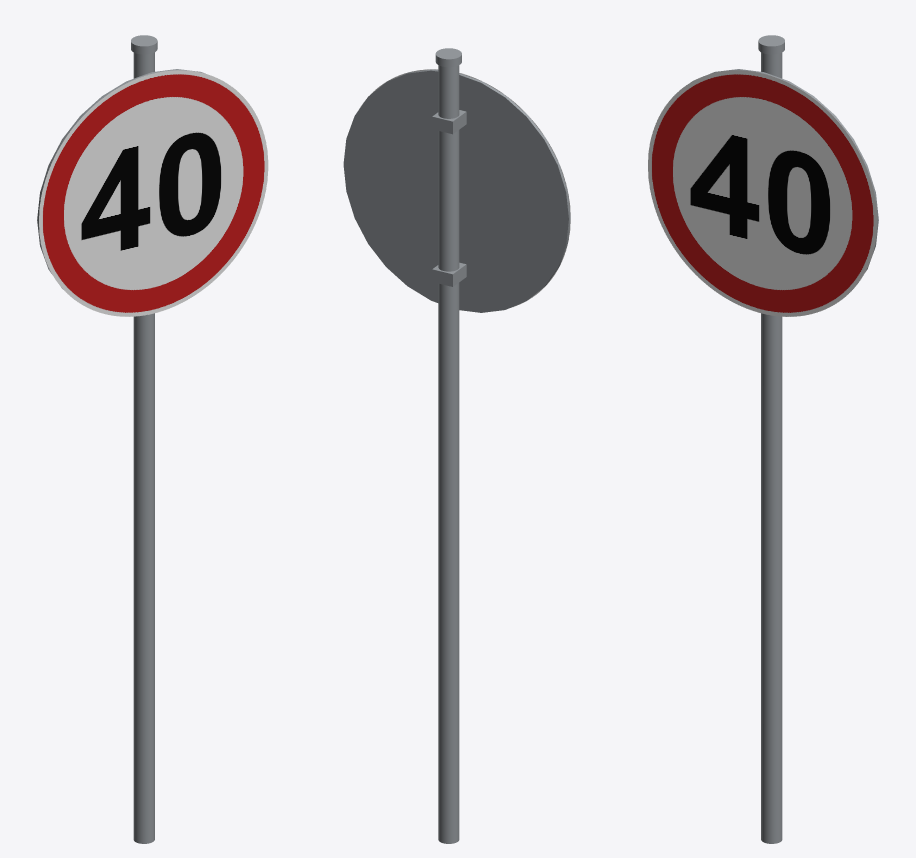
Rendered from sign_speed40kph.dae.
3 views of the same model, side by side, from view 1: azimuth 30°, elevation 25°; view 2: azimuth 150°, elevation 25°; view 3: azimuth 330°, elevation 25° (orthographic).
Visible parts, largest first — view 1: sign_speed40kph; view 2: sign_speed40kph; view 3: sign_speed40kph.
Part boxes in pixels (<box>): sign_speed40kph: <box>37,35,268,843</box>; sign_speed40kph: <box>343,48,570,843</box>; sign_speed40kph: <box>648,35,878,843</box>.
Bounding box in the file's own units: 0.9 × 0.0895 × 2.47.
Materials: 2 (1 with a texture image).
